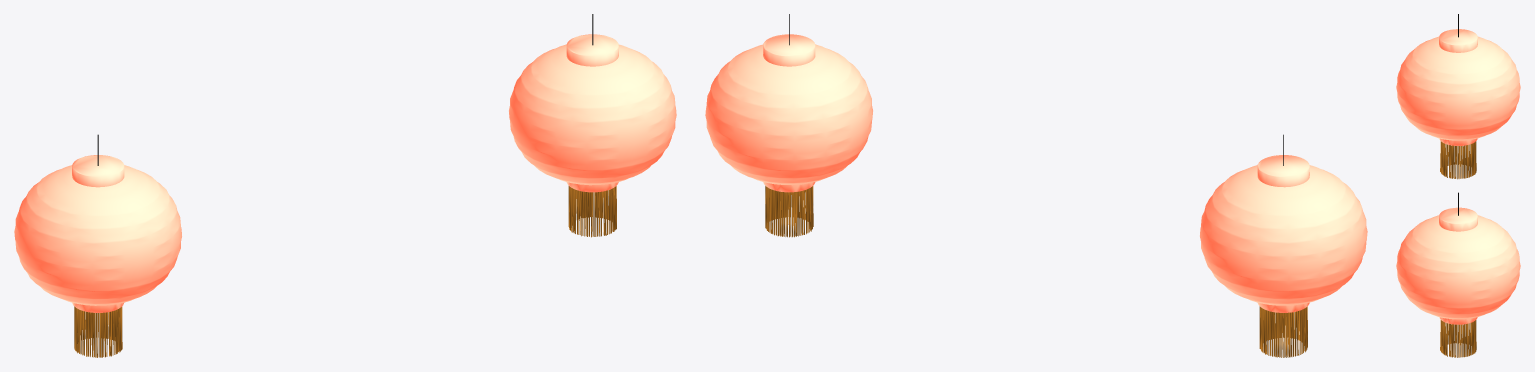
The model's file is wukong-red-lamp.glb.
3 renders of one model, left to right at view 1: azimuth 30°, elevation 25°; view 2: azimuth 150°, elevation 25°; view 3: azimuth 270°, elevation 25°, orthographic. The views are drawn at different scales.
Visible parts, largest first — view 1: lantern, lantern.001; view 2: lantern, lantern.001; view 3: lantern, lantern.001.
Part boxes in pixels (bbox=[...]): lantern: bbox=[14, 134, 181, 357]; lantern.001: bbox=[509, 14, 676, 237]; lantern: bbox=[1200, 134, 1367, 357]; lantern.001: bbox=[705, 14, 872, 237]; lantern: bbox=[1396, 14, 1520, 179]; lantern.001: bbox=[1396, 192, 1520, 357].
Bounding box in the file's own units: 10.16 × 3.23 × 2.31.
